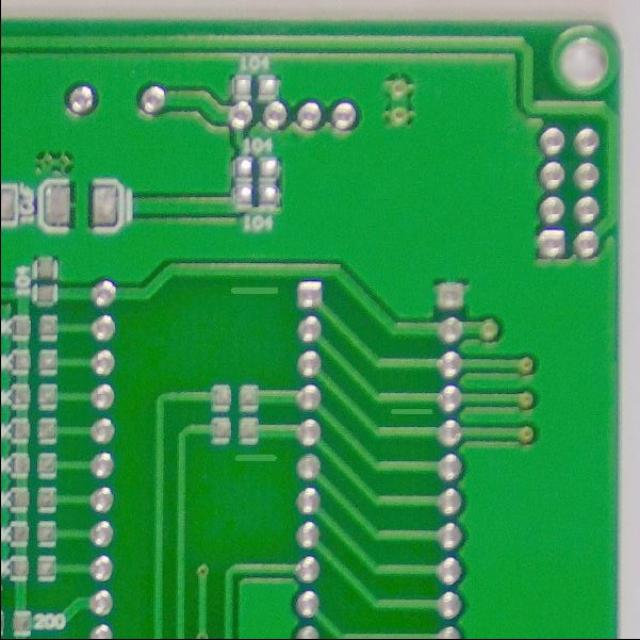spurious_copper: (225, 279, 283, 300), (382, 402, 434, 422), (228, 449, 280, 468)
